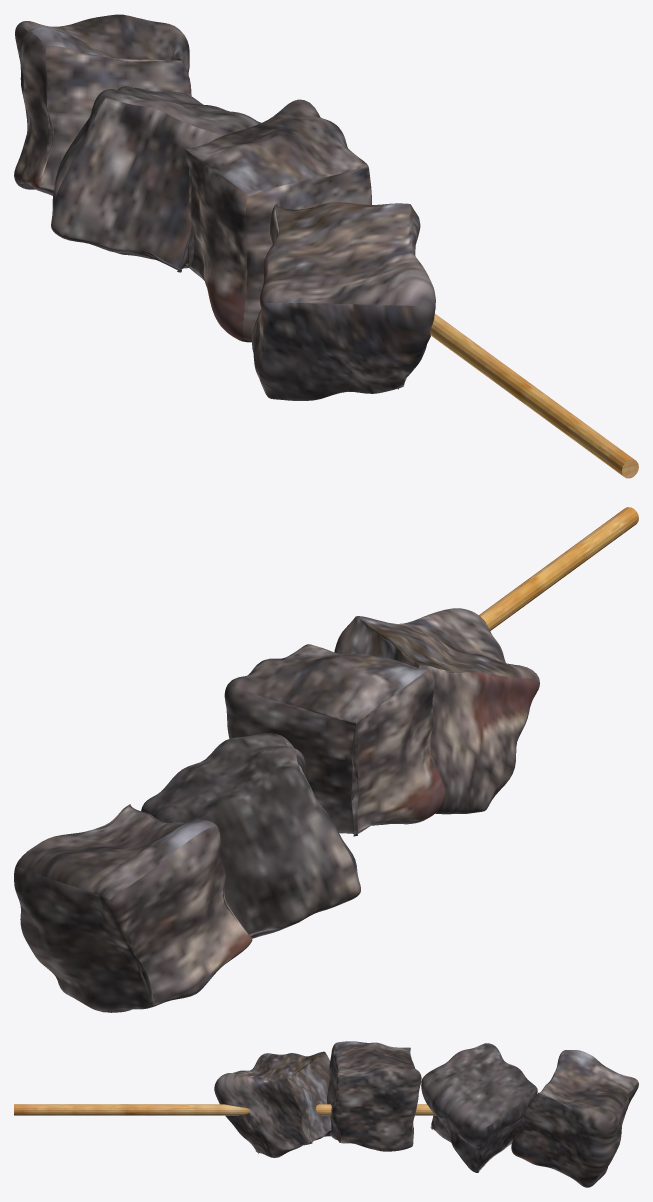
File: BurnedSatay.fbx
3 views of the same model, one above another, from view 1: azimuth 30°, elevation 25°; view 2: azimuth 150°, elevation 25°; view 3: azimuth 270°, elevation 25° (orthographic). The views are drawn at different scales.
Parts seen in each view (by area): view 1: BurnedSatay, Skewer; view 2: BurnedSatay, Skewer; view 3: BurnedSatay, Skewer.
Boxes of the visible parts, left/top/right/bottom form: BurnedSatay: left=14, top=14, right=435, bottom=400; Skewer: left=430, top=313, right=638, bottom=478; BurnedSatay: left=14, top=608, right=539, bottom=1012; Skewer: left=479, top=507, right=638, bottom=630; BurnedSatay: left=214, top=1041, right=638, bottom=1187; Skewer: left=14, top=1104, right=436, bottom=1115.
Bounding box in the file's own units: 362 × 313 × 1494.
